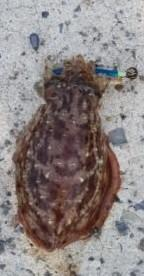Cephalopod: (12, 55, 121, 253)
